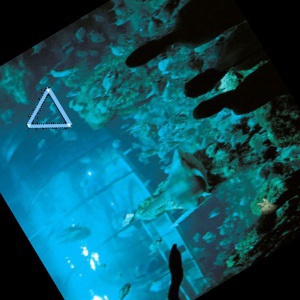triangle: (25, 86, 73, 132)
